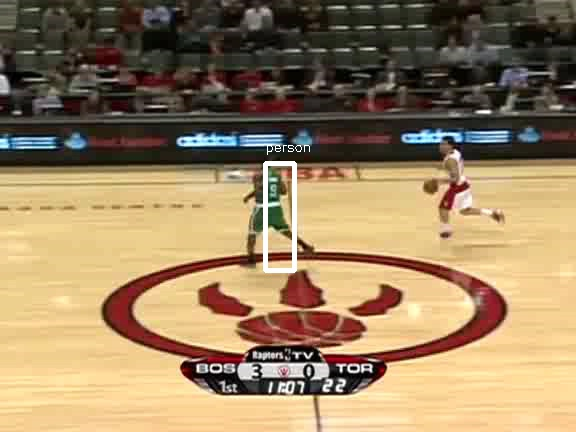person: (253, 164, 287, 245), (252, 164, 286, 245), (254, 164, 288, 245), (253, 163, 287, 244), (253, 165, 287, 246)
target_negative: (131, 67, 297, 423), (245, 303, 542, 412), (150, 84, 280, 109), (253, 392, 447, 406), (438, 250, 453, 308), (562, 274, 565, 378)
